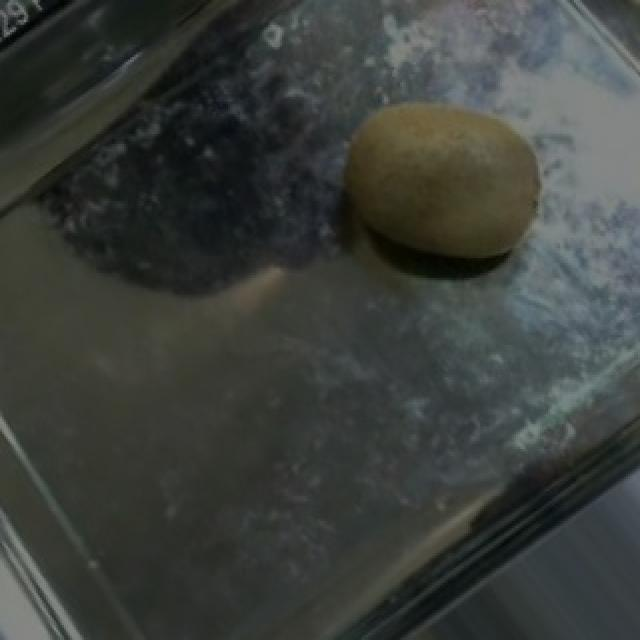Fruit: (314, 77, 568, 298)
